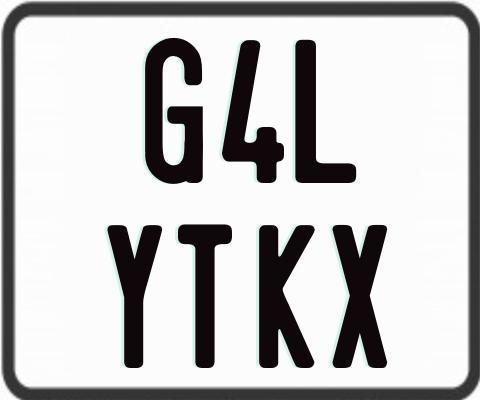4: (221, 38, 284, 182)
G: (145, 36, 207, 188)
K: (259, 222, 318, 365)
L: (292, 37, 356, 186)
T: (176, 222, 231, 369)
X: (329, 224, 386, 372)
Y: (106, 225, 162, 369)
